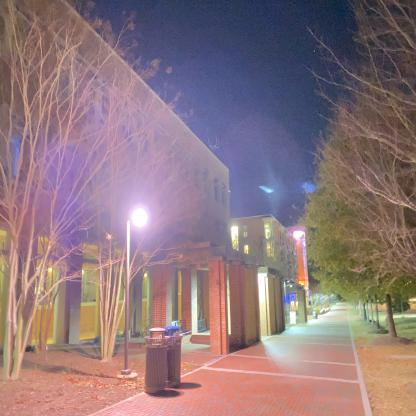eb2: (1, 3, 235, 348)
